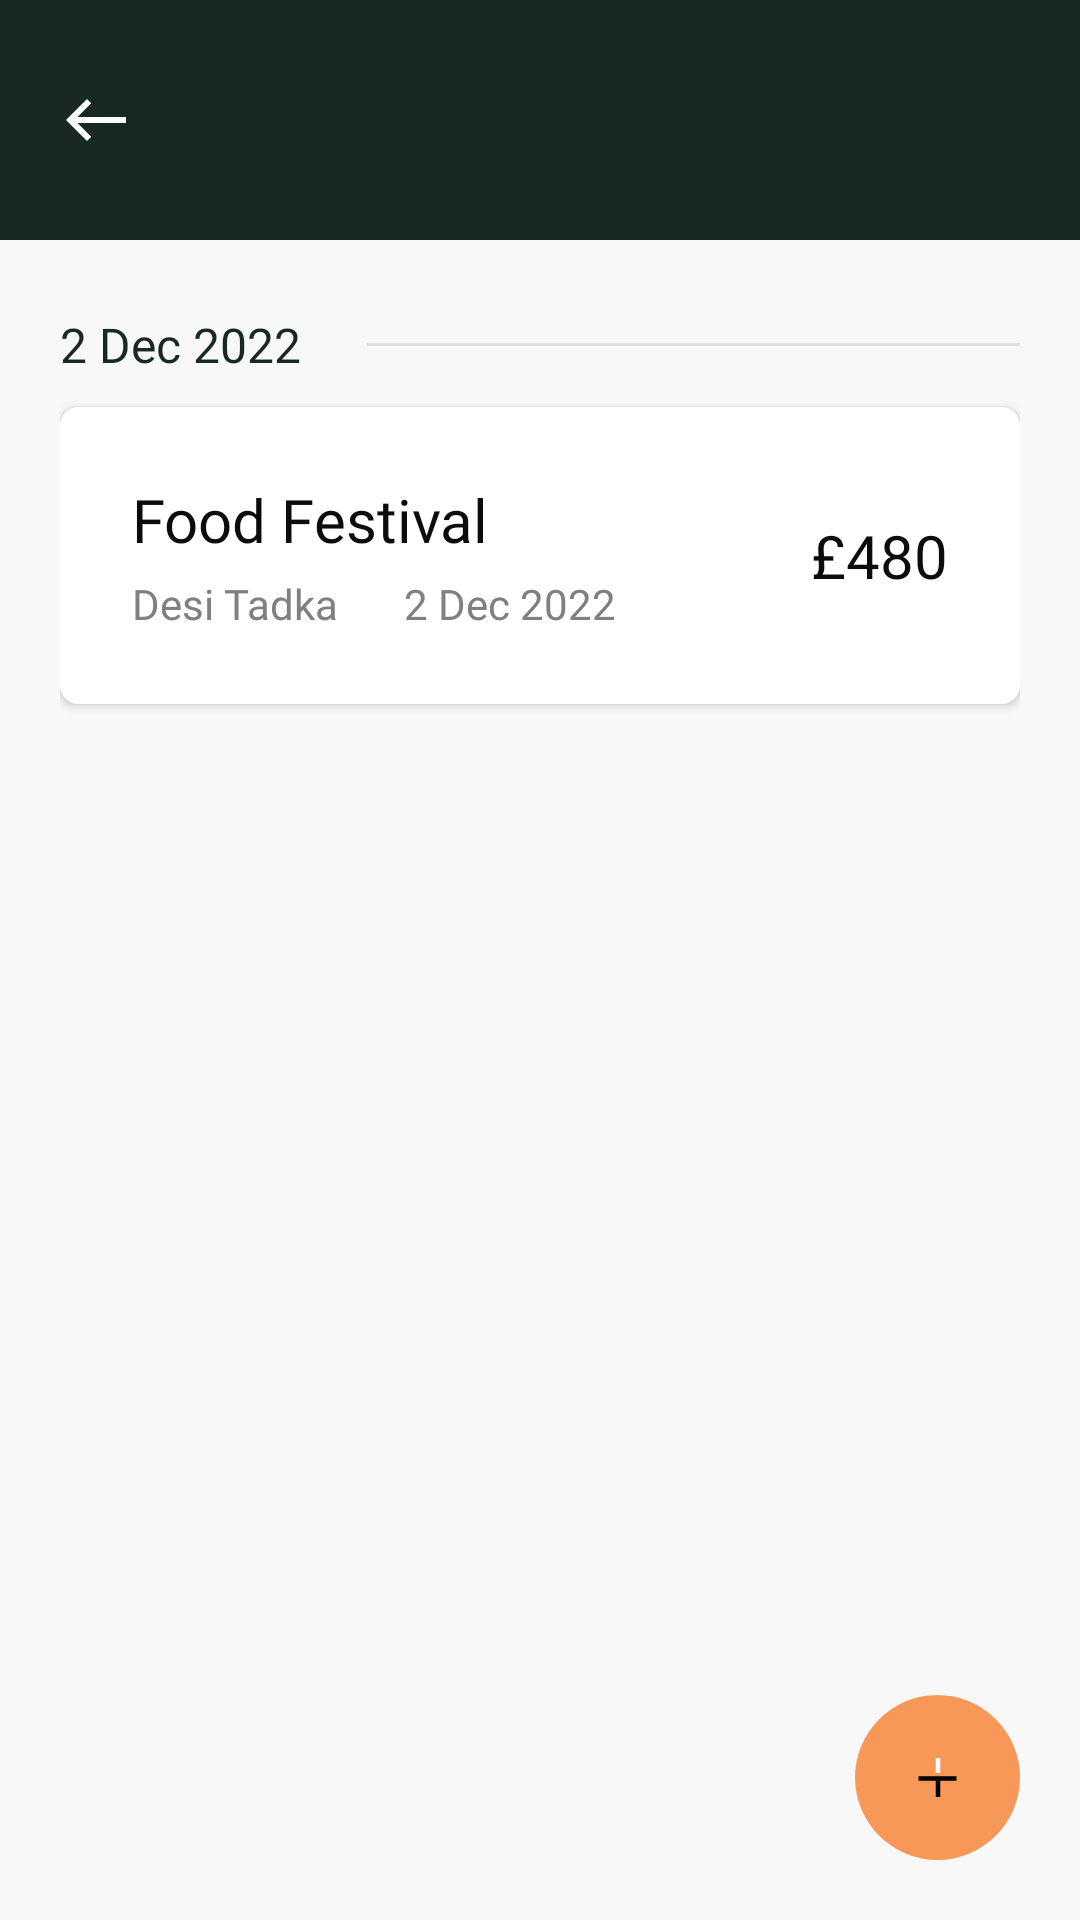

Named icons in this screenshot (1080 x 1920) and their centers, (x=x, y=y):
addsalesrecord: (x=937, y=1777)
arrow back: (x=96, y=120)
